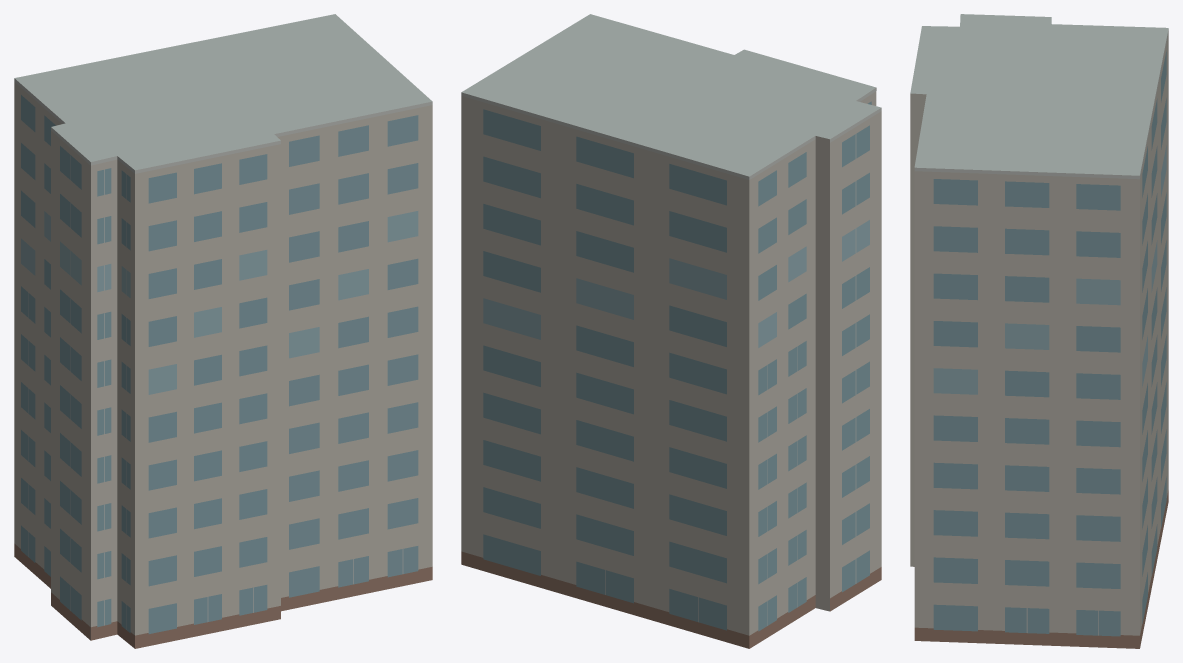
Rendered from survey-upis-32773116.glb.
3 renders of one model, left to right at view 1: azimuth 30°, elevation 25°; view 2: azimuth 150°, elevation 25°; view 3: azimuth 270°, elevation 25°, orthographic.
Visible parts, largest first — view 1: survey-upis-32773116.tmp; view 2: survey-upis-32773116.tmp; view 3: survey-upis-32773116.tmp.
Boxes of the visible parts, <box> form: survey-upis-32773116.tmp: <box>14,14,432,648</box>; survey-upis-32773116.tmp: <box>461,14,881,648</box>; survey-upis-32773116.tmp: <box>910,14,1168,648</box>.
Size of the model in its own units: 24.35 by 33.2 by 16.45.
